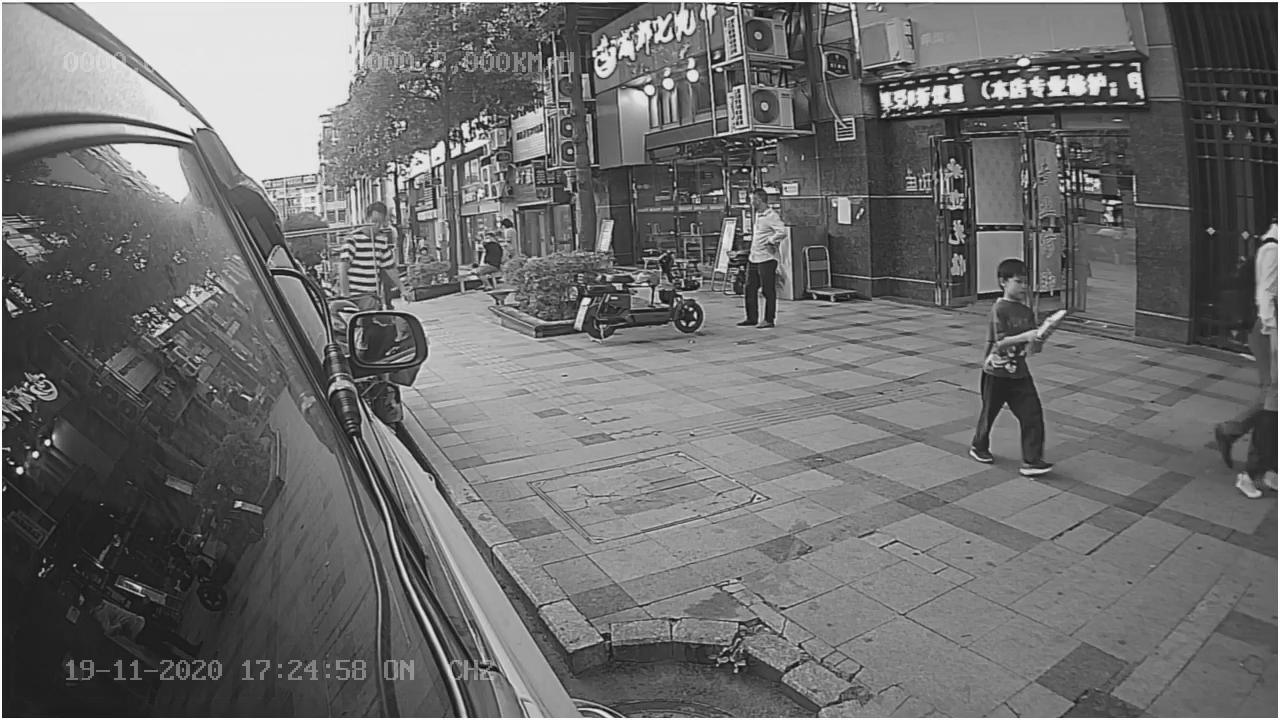person: (955, 254, 1068, 481)
